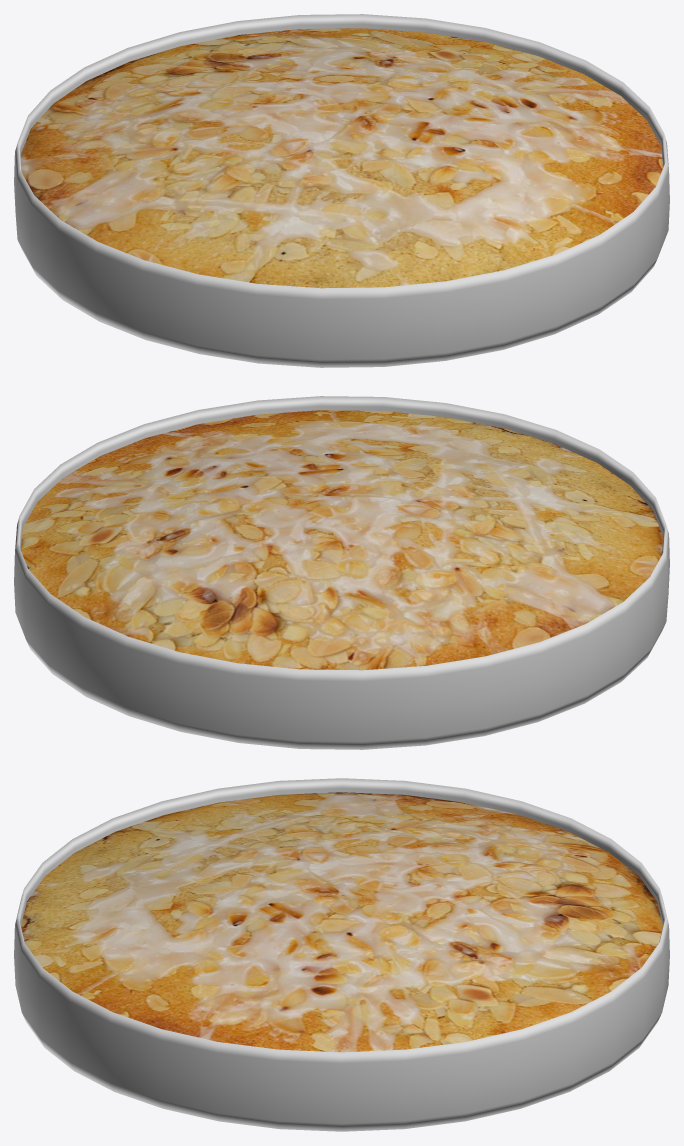
Rendered from BakewellTart.fbx.
3 views of the same model, one above another, from view 1: azimuth 30°, elevation 25°; view 2: azimuth 150°, elevation 25°; view 3: azimuth 270°, elevation 25° (orthographic).
Parts seen in each view (by area): view 1: polySurface1; view 2: polySurface1; view 3: polySurface1.
Part boxes in pixels (box(x1,y1,x2,y2)): polySurface1: box(14, 14, 669, 367); polySurface1: box(14, 396, 669, 749); polySurface1: box(14, 778, 669, 1131).
Bounding box in the file's own units: 0.4155 × 0.0791 × 0.4155.
2 materials, 1 textured.
